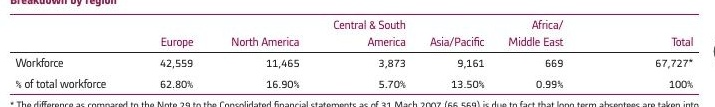table: (0, 0, 715, 107)
